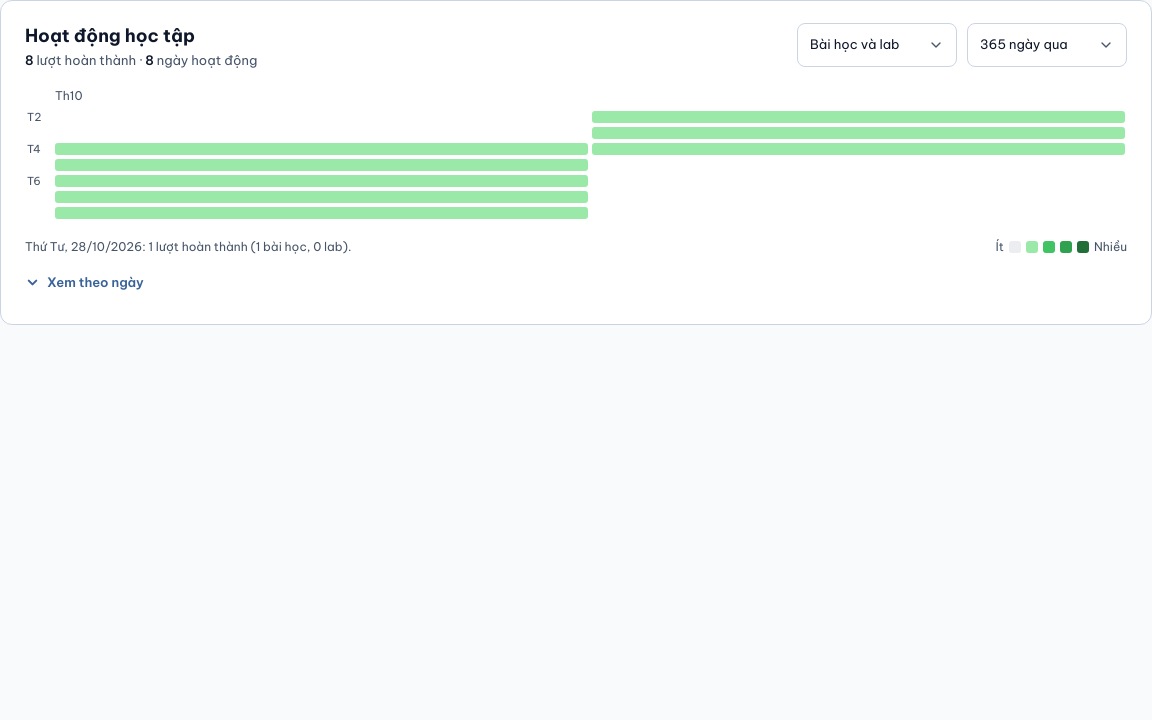
Scenario: daily disclosure keeps the history to five entries per page and hides controls when collapsed
Expected: the element named "Lịch hoạt động theo ngày" is shown, [55, 111, 1125, 219]
Click the button "Xem theo ngày".
click(84, 282)  # box [25, 262, 144, 302]
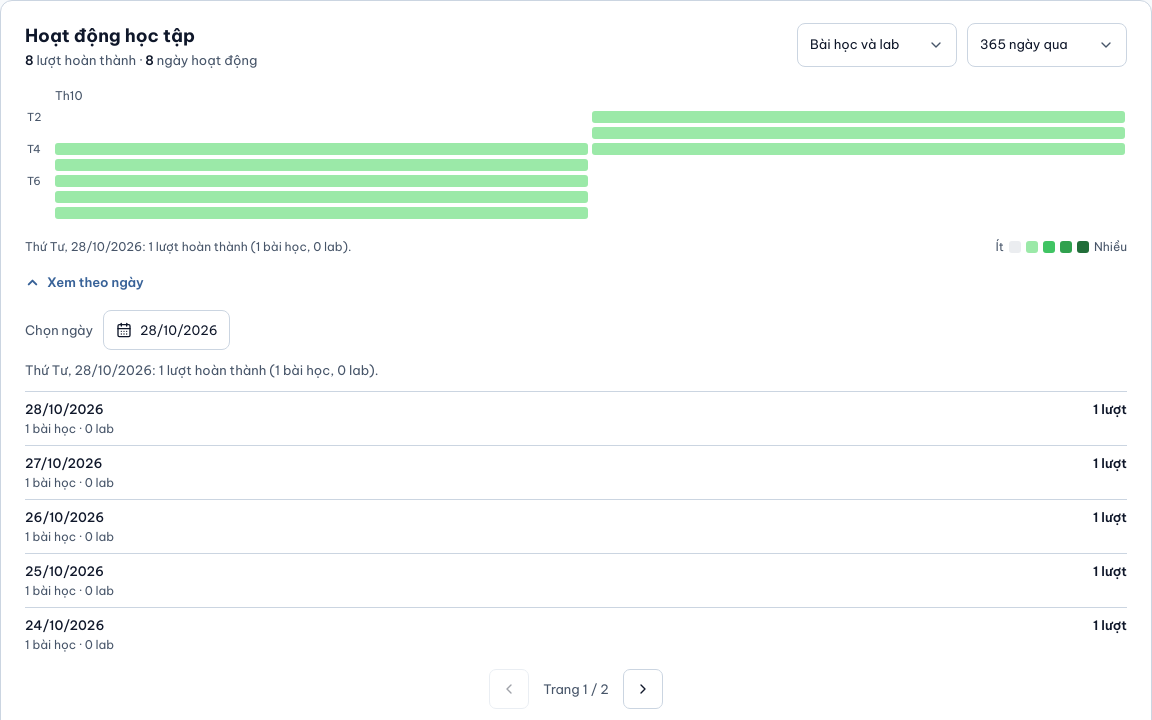
Now the number of list items is 5, box [25, 391, 1127, 445]; [25, 445, 1127, 499]; [25, 499, 1127, 553]; [25, 553, 1127, 607]; [25, 607, 1127, 661]
Now the text "Trang 1 / 2" is shown, box [543, 681, 609, 697]
Click the button named "Trang hoạt động sau".
click(643, 689)  # box [623, 669, 663, 709]
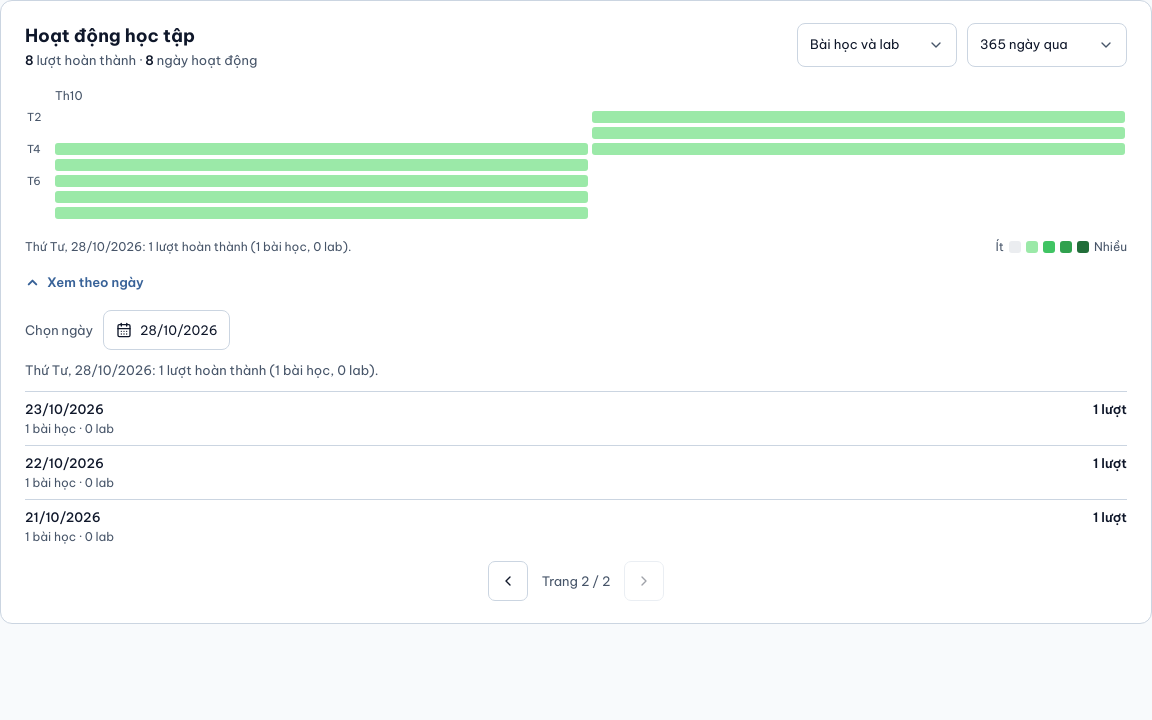
Now the number of list items is 3, box [25, 391, 1127, 445]; [25, 445, 1127, 499]; [25, 499, 1127, 553]
Now the text "Trang 2 / 2" is shown, box [542, 573, 610, 589]
Click the button "Xem theo ngày".
click(84, 282)  # box [25, 262, 144, 302]
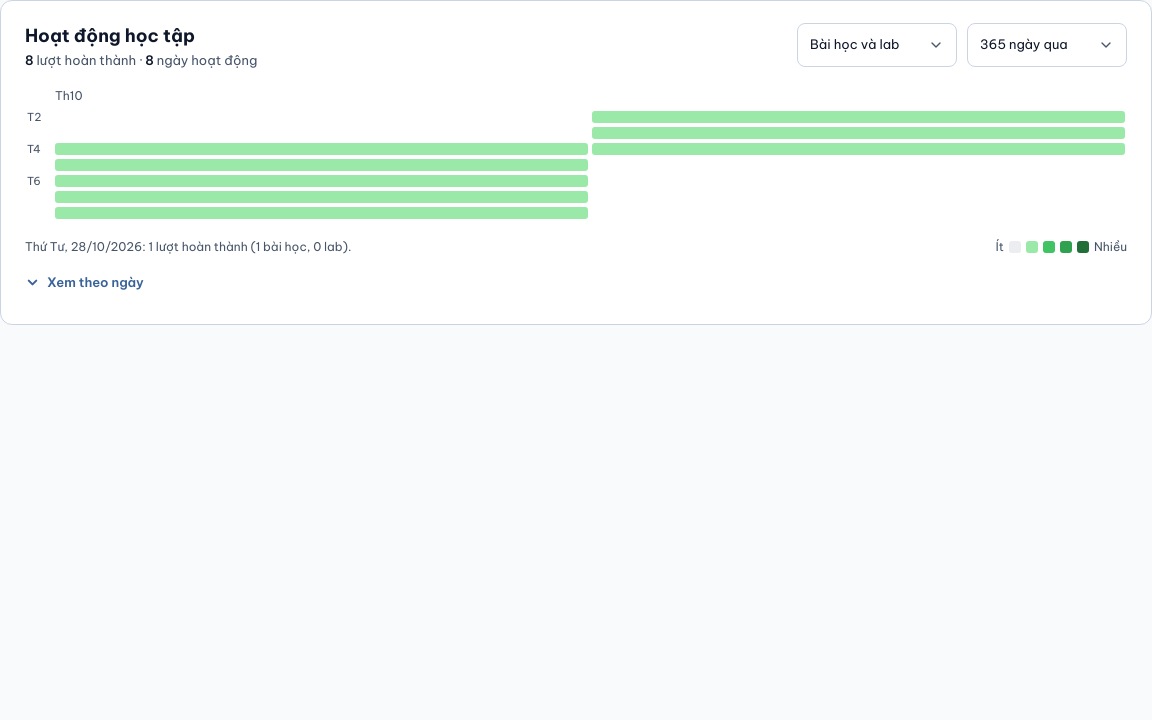
Now the button "Xem theo ngày" is collapsed, box [25, 262, 144, 302]
